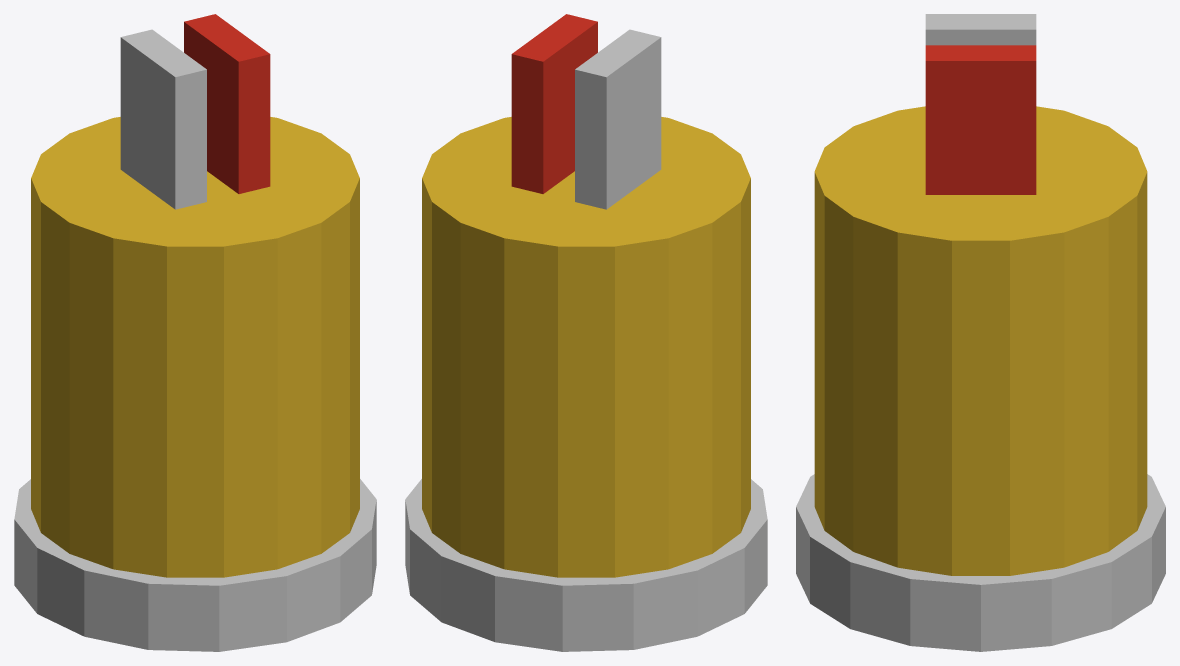
The model's file is capacitor.obj.
3 views of the same model, side by side, from view 1: azimuth 30°, elevation 25°; view 2: azimuth 150°, elevation 25°; view 3: azimuth 270°, elevation 25° (orthographic).
Visible parts, largest first — view 1: capacitor; view 2: capacitor; view 3: capacitor.
Boxes of the visible parts, x1,y1,x2,y2 form: capacitor: (14, 14, 376, 651); capacitor: (405, 14, 767, 651); capacitor: (796, 14, 1165, 651).
Size of the model in its own units: 0.2 by 0.32 by 0.2.
